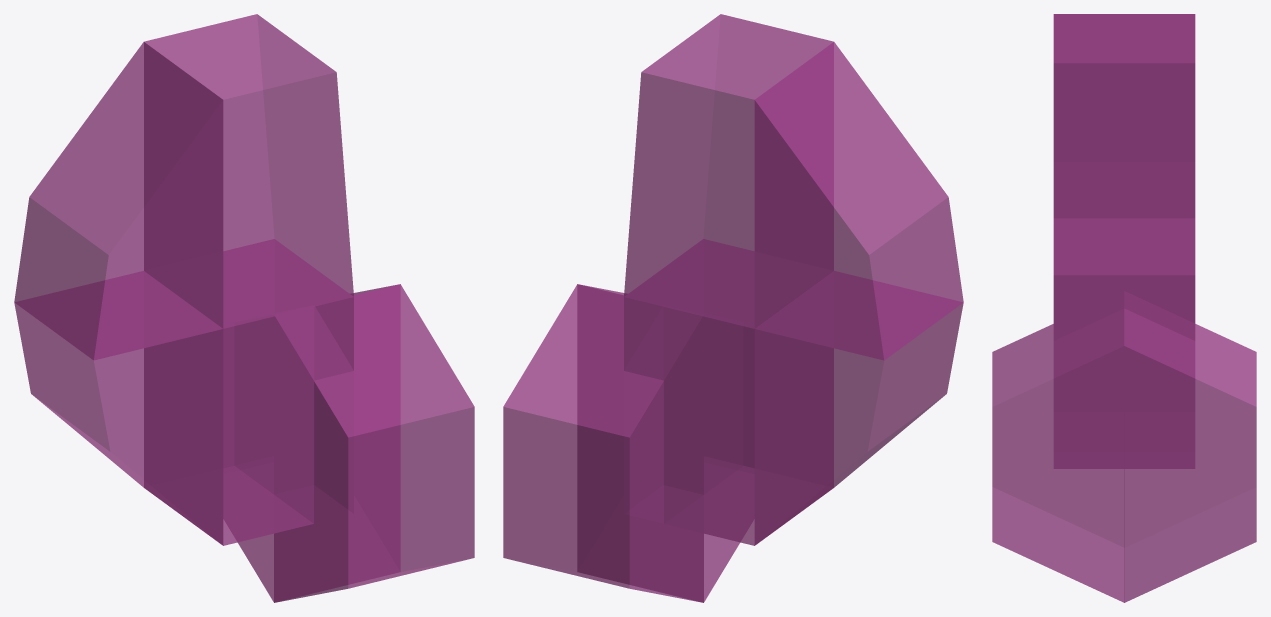
Rendered from SM_Bld_Roof_Trim_Cap_05_Collision_01.fbx.
3 renders of one model, left to right at view 1: azimuth 30°, elevation 25°; view 2: azimuth 150°, elevation 25°; view 3: azimuth 270°, elevation 25°, orthographic. The views are drawn at different scales.
Visible parts, largest first — view 1: SM_Bld_Roof_Trim_Cap_05_Collision_01; view 2: SM_Bld_Roof_Trim_Cap_05_Collision_01; view 3: SM_Bld_Roof_Trim_Cap_05_Collision_01.
Part boxes in pixels (left/top/right/bottom): SM_Bld_Roof_Trim_Cap_05_Collision_01: left=14, top=14, right=474, bottom=602; SM_Bld_Roof_Trim_Cap_05_Collision_01: left=503, top=14, right=963, bottom=602; SM_Bld_Roof_Trim_Cap_05_Collision_01: left=992, top=14, right=1256, bottom=602.
Size of the model in its own units: 53.57 by 81.87 by 39.7.
